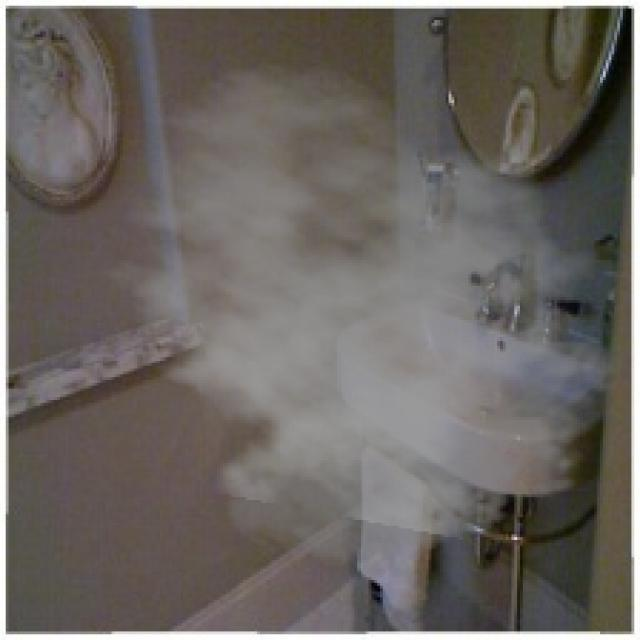Smoke: (80, 60, 637, 577)
